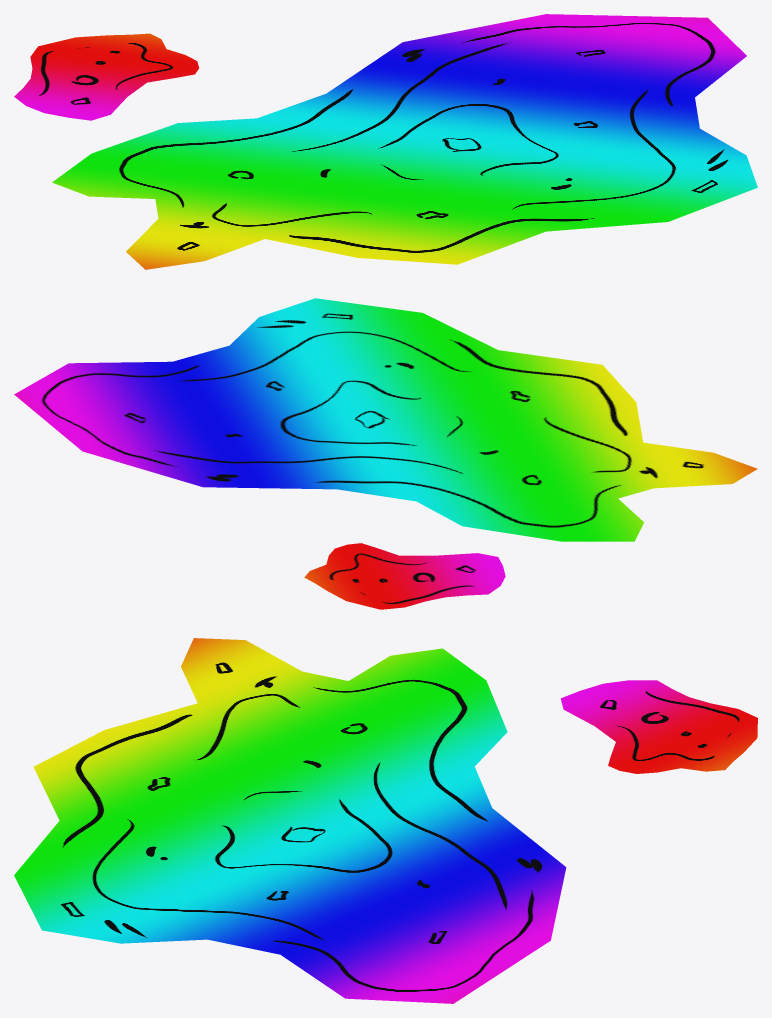
Rendered from Puke.fbx.
3 views of the same model, one above another, from view 1: azimuth 30°, elevation 25°; view 2: azimuth 150°, elevation 25°; view 3: azimuth 270°, elevation 25° (orthographic). The views are drawn at different scales.
Visible parts, largest first — view 1: Puke1; view 2: Puke1; view 3: Puke1.
Boxes of the visible parts, left/top/right/bottom form: Puke1: left=14, top=14, right=757, bottom=269; Puke1: left=14, top=298, right=757, bottom=609; Puke1: left=14, top=638, right=757, bottom=1003.
Bounding box in the file's own units: 72.6 × 0 × 62.39.
1 material, 1 textured.
